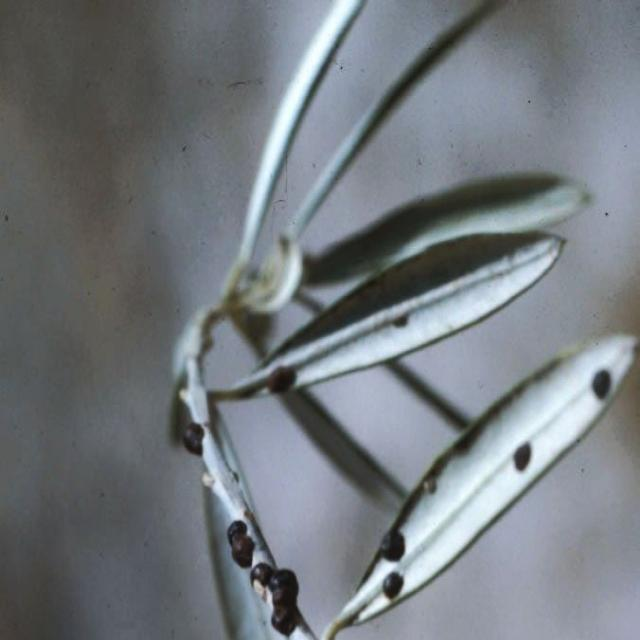Black Scale: (251, 560, 298, 636), (227, 519, 255, 567), (376, 529, 405, 562), (183, 420, 204, 456), (269, 367, 294, 393), (592, 369, 612, 401), (382, 571, 403, 600), (514, 442, 531, 472)
